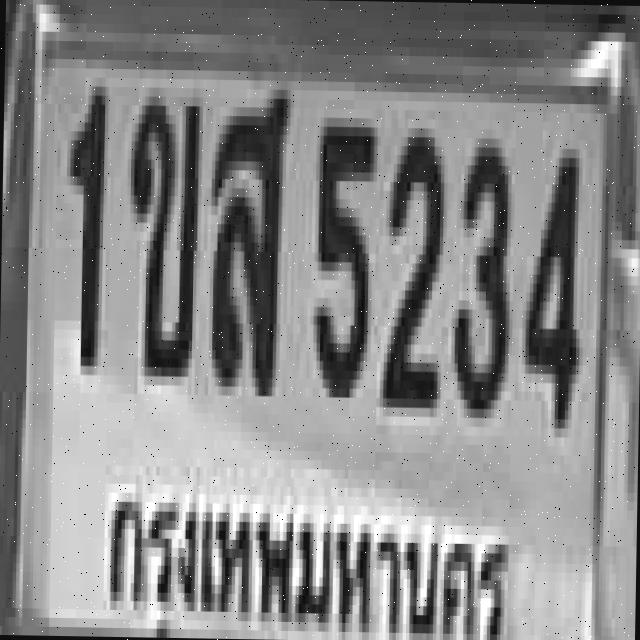1: (64, 77, 104, 366)
11KhorKhai: (124, 86, 199, 368)
2: (379, 123, 442, 394)
3: (450, 129, 509, 409)
4: (520, 139, 580, 419)
49SorSuea: (208, 79, 287, 387)
5: (310, 118, 372, 388)
Bangkok: (94, 457, 521, 640)
